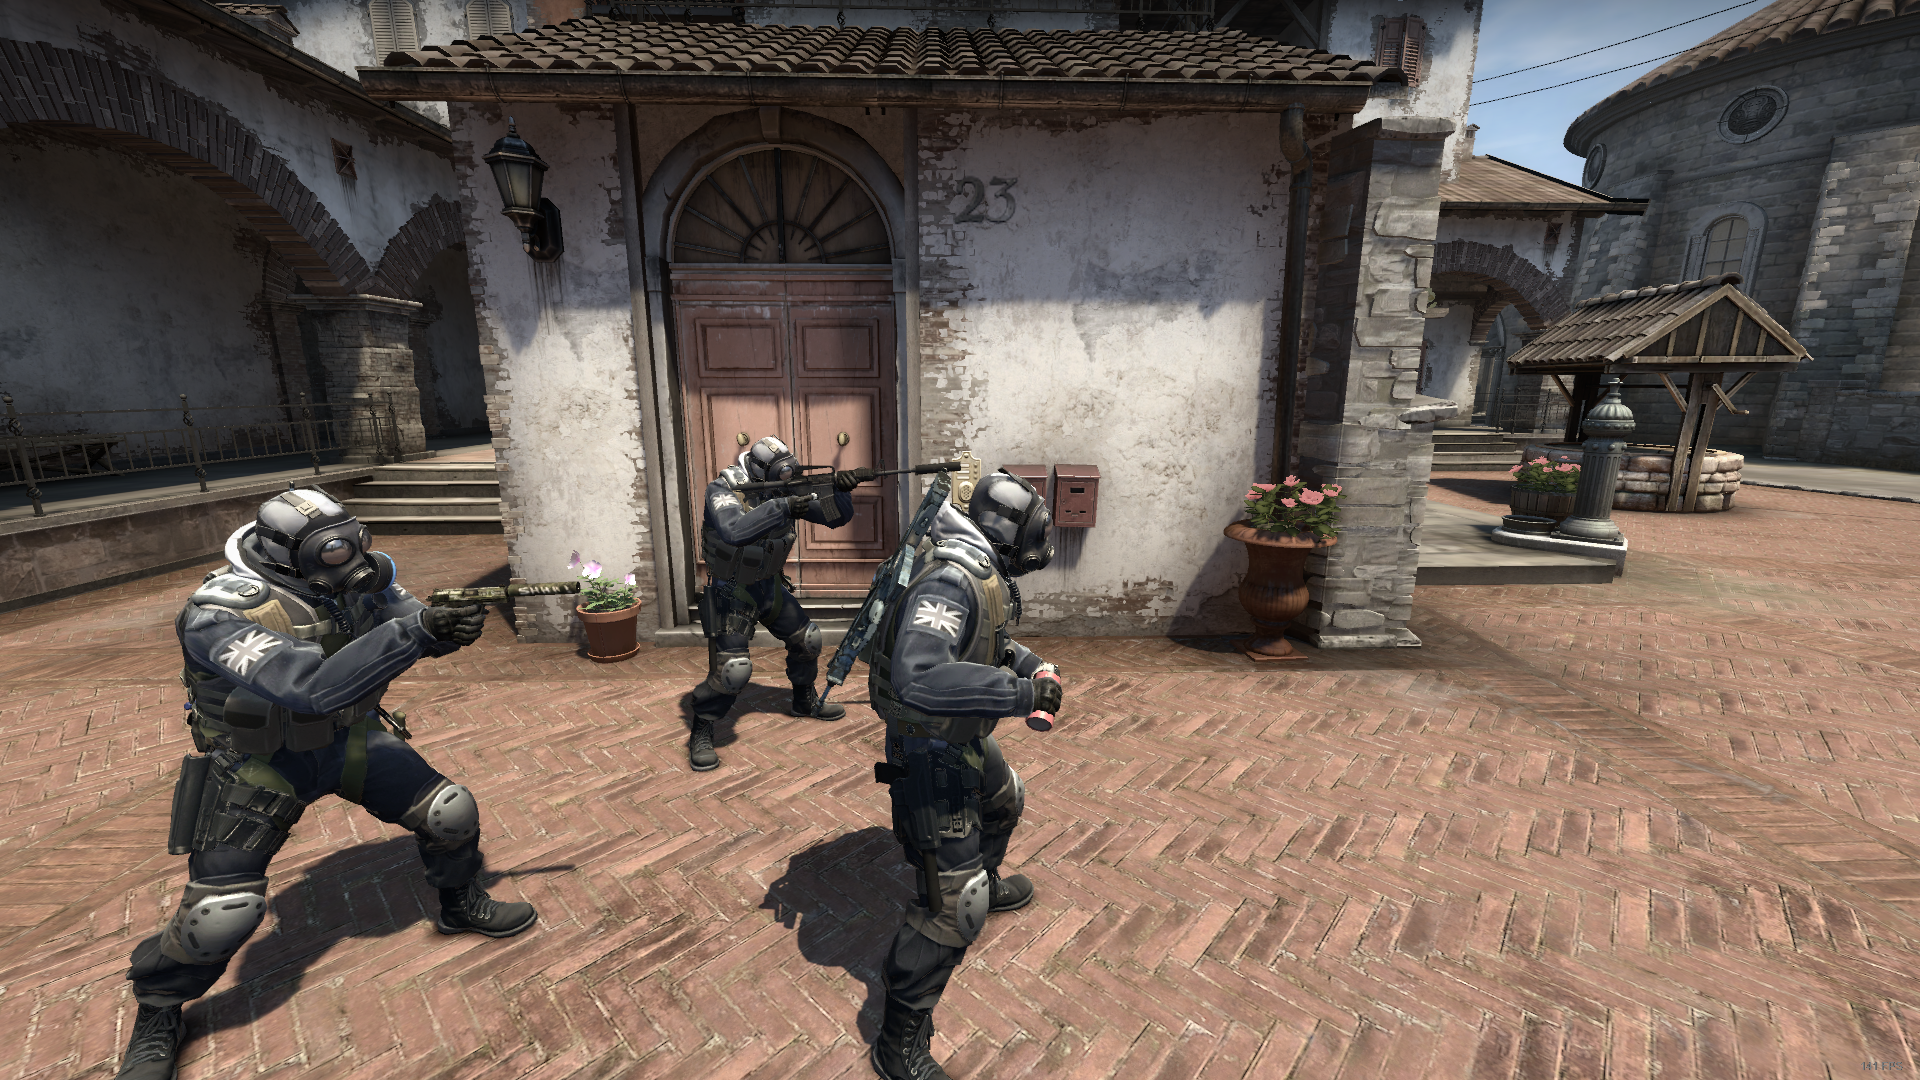ct: (105, 487, 541, 1069), (858, 467, 1075, 1080), (669, 433, 843, 775)
